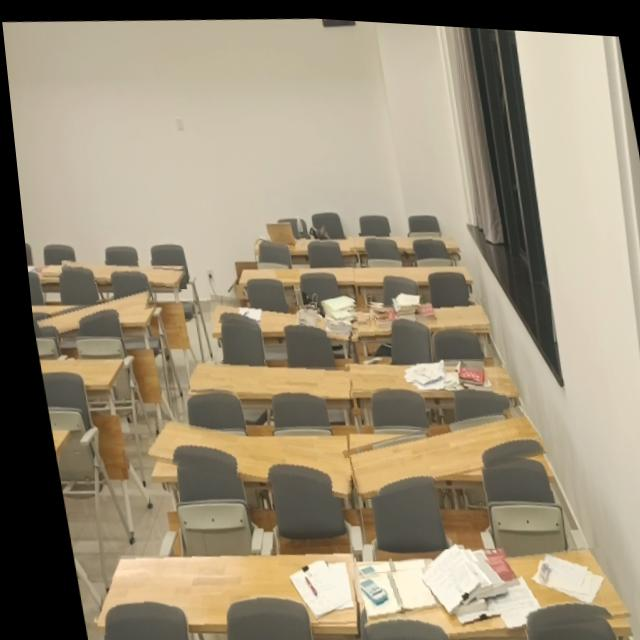Non-empty: (343, 541, 619, 631), (83, 548, 344, 622), (345, 296, 486, 335), (342, 357, 507, 388), (204, 298, 350, 329), (249, 232, 353, 249)
empty: (339, 399, 538, 489), (139, 419, 342, 495), (28, 285, 141, 336), (182, 358, 342, 394), (34, 353, 114, 386), (58, 260, 178, 281), (346, 229, 457, 248)
